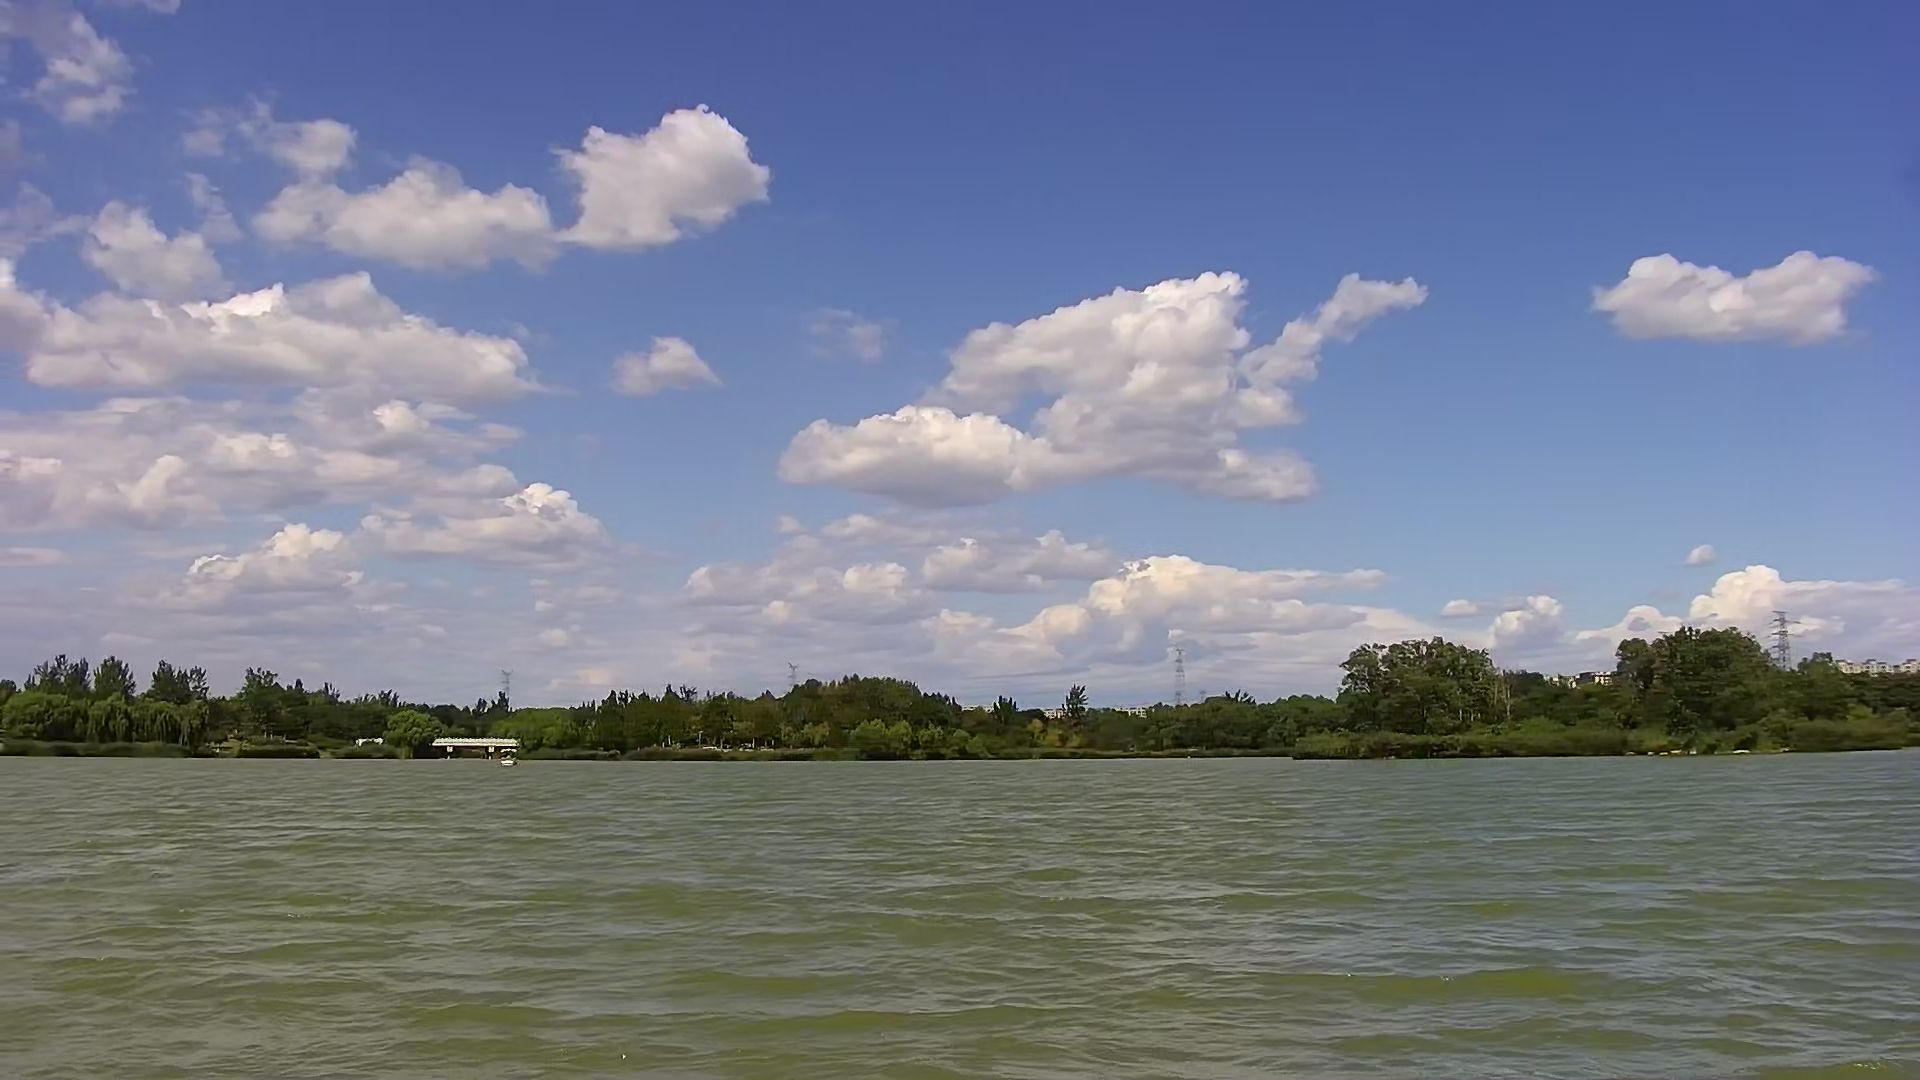harbor: (425, 735, 520, 764)
